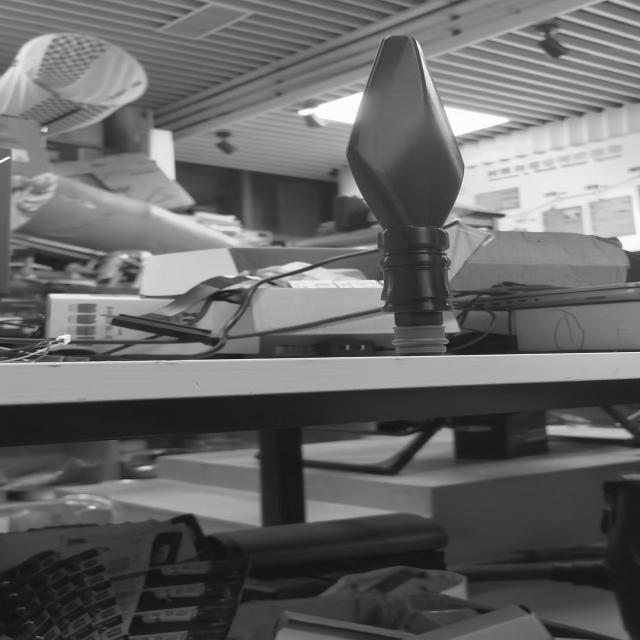base: (386, 321, 454, 365)
